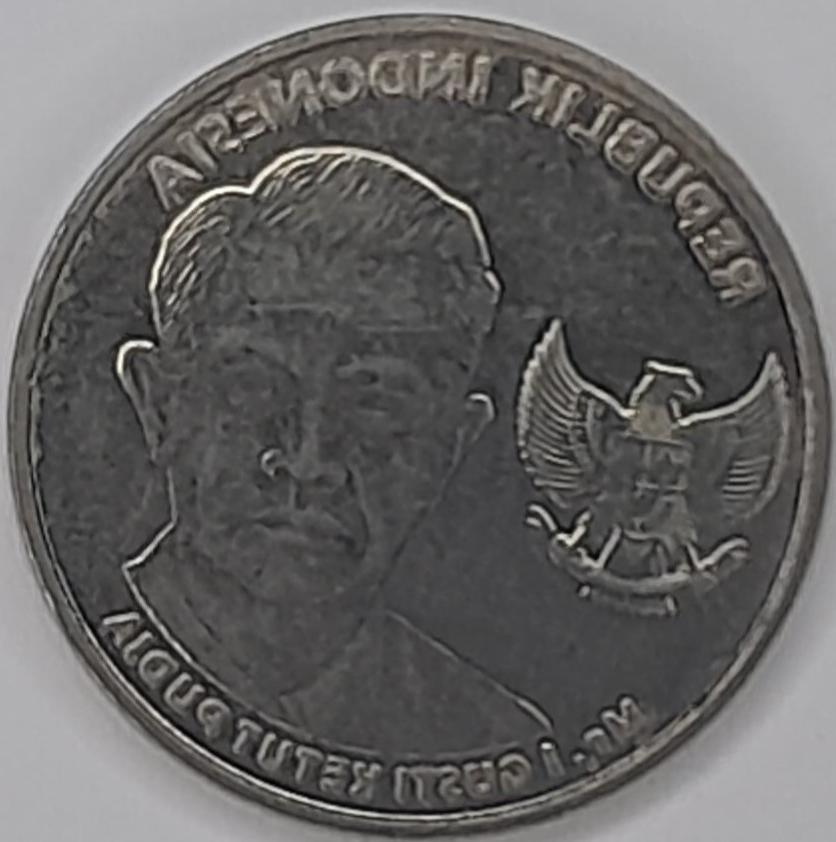coin_1000_e2016: (14, 17, 825, 842)
